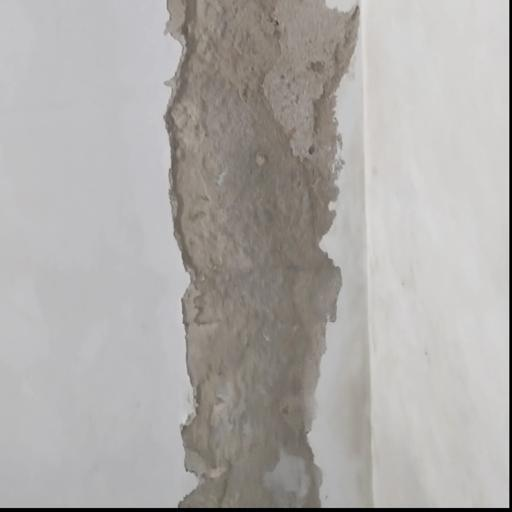peeling: (132, 0, 390, 511)
